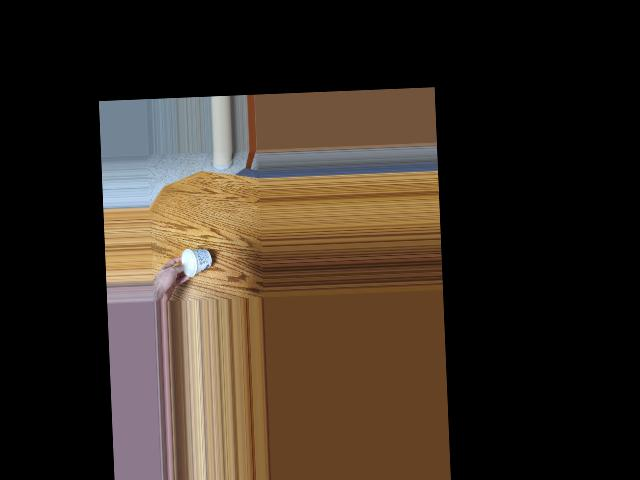cotage: (179, 245, 210, 278)
